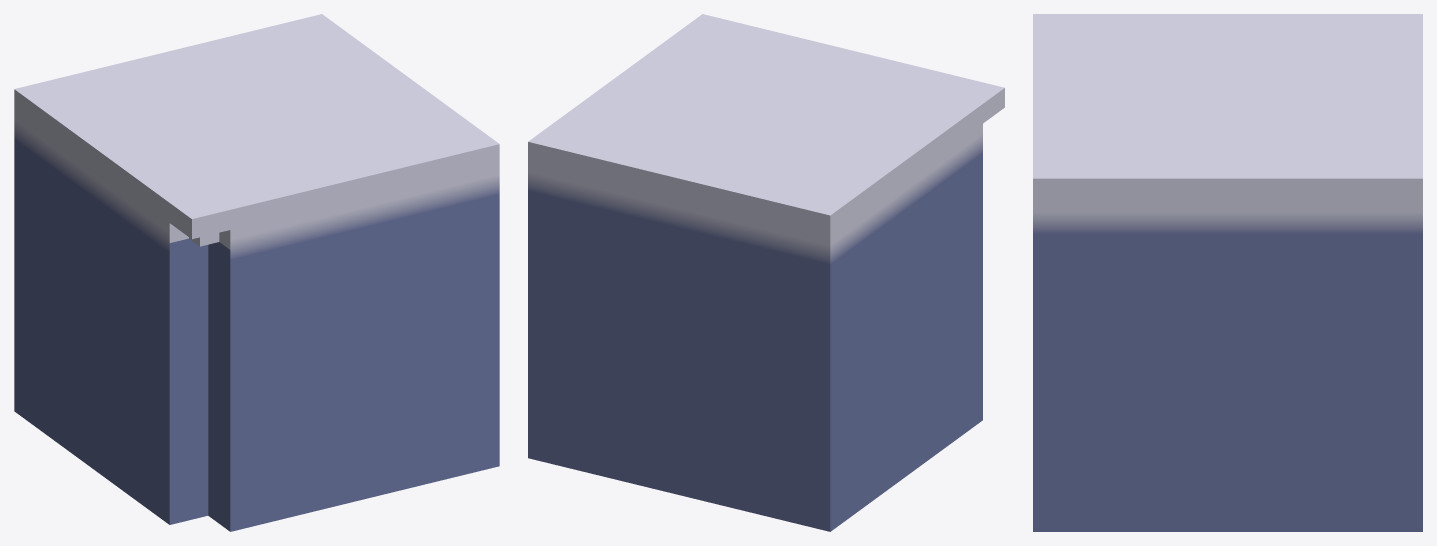
The model's file is SnowInwardCorner_1.fbx.
The picture shows the model from 3 angles, left to right: view 1: azimuth 30°, elevation 25°; view 2: azimuth 150°, elevation 25°; view 3: azimuth 270°, elevation 25°; orthographic projection. The views are drawn at different scales.
Visible parts, largest first — view 1: SnowInwardCorner_1; view 2: SnowInwardCorner_1; view 3: SnowInwardCorner_1.
Part boxes in pixels (<box>): SnowInwardCorner_1: <box>14,14,499,531</box>; SnowInwardCorner_1: <box>528,14,1004,531</box>; SnowInwardCorner_1: <box>1033,14,1422,531</box>.
Bounding box in the file's own units: 16 × 16 × 16.
1 material, 1 textured.
